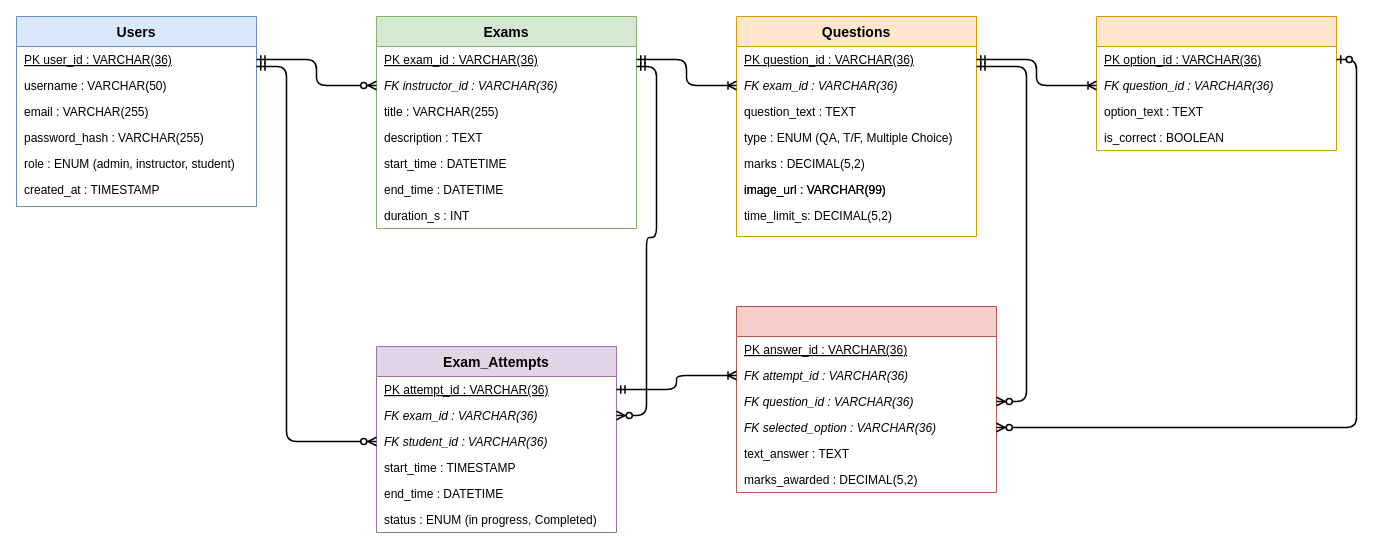
Some shapes in this 1373 by 549 pixel diagram are drawn without their labels. Each missing label, with the box of its shape:
Options: (1096, 16, 1336, 150)
Student_Answers: (736, 306, 996, 492)
